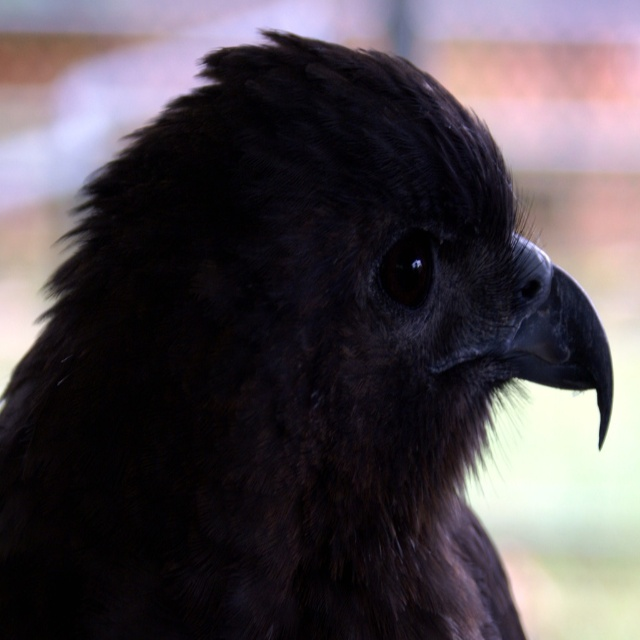Raven: (0, 20, 616, 639)
